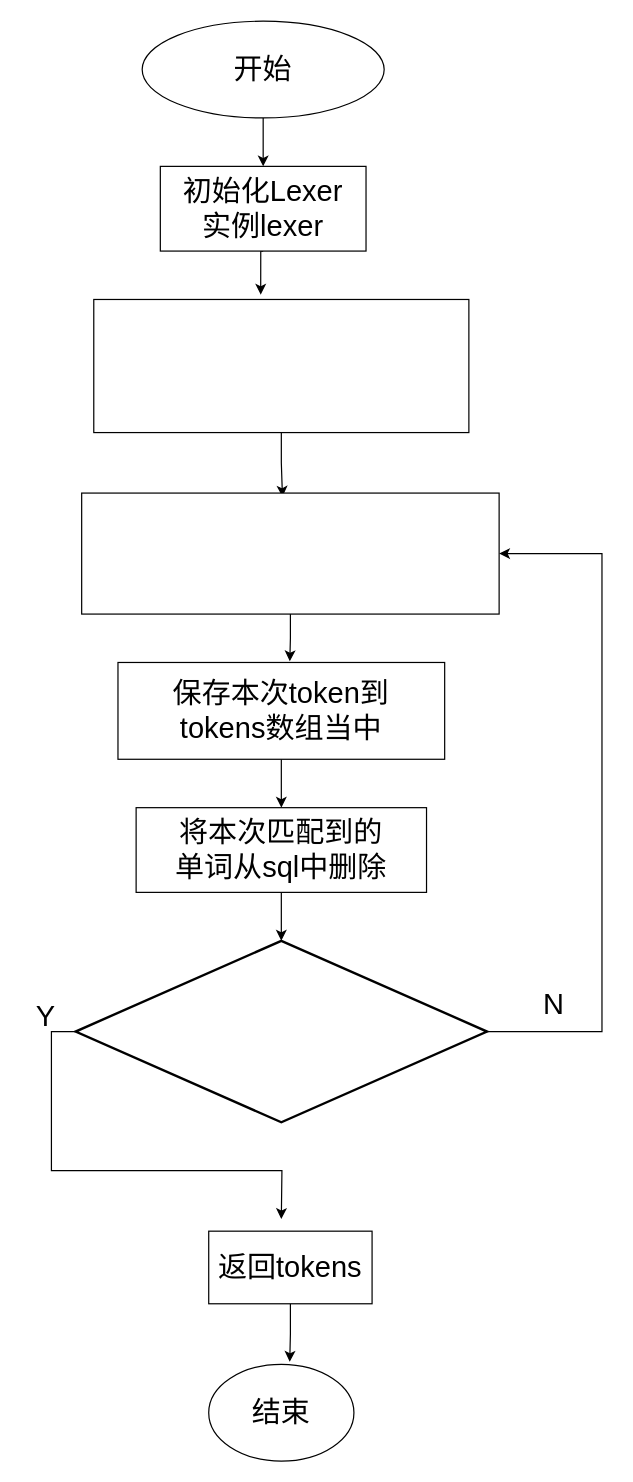
This 633x1482 diagram has some shape labels left out. The shapes that lost their labels are listed below. From the top down, each one's centre as x and y in pixels, then its label:
the point at 281,365: 输入sql语句作为 lexer的tokenize方法的参数开始进行词法分析
the point at 289,553: 将sql整个作为输入匹配前缀， 依次匹配所有token类型， 最后得到最匹配的
the point at 281,1031: 剩余sql字符串长度是否为0
